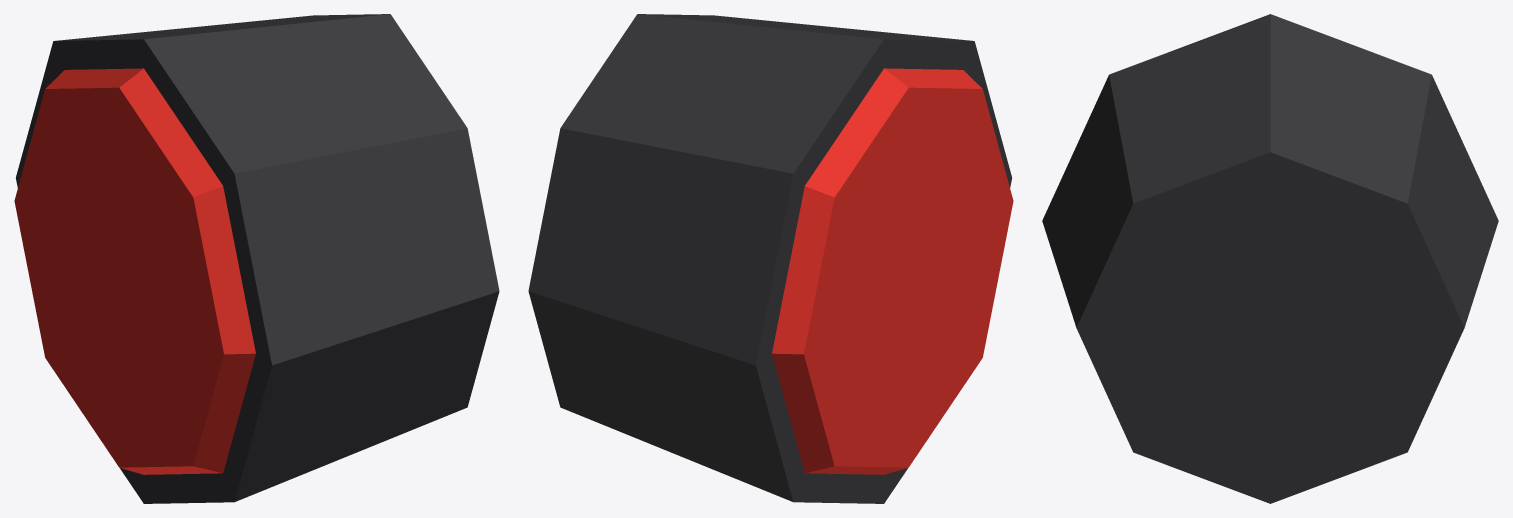
The model's file is round_lod2.glb.
3 views of the same model, side by side, from view 1: azimuth 30°, elevation 25°; view 2: azimuth 150°, elevation 25°; view 3: azimuth 270°, elevation 25° (orthographic). The views are drawn at different scales.
Parts seen in each view (by area): view 1: round_lod2; view 2: round_lod2; view 3: round_lod2.
Boxes of the visible parts, x1,y1,x2,y2 form: round_lod2: (14,14,499,503); round_lod2: (528,14,1013,503); round_lod2: (1042,14,1498,503).
Bounding box in the file's own units: 0.044 × 0.072 × 0.072.
